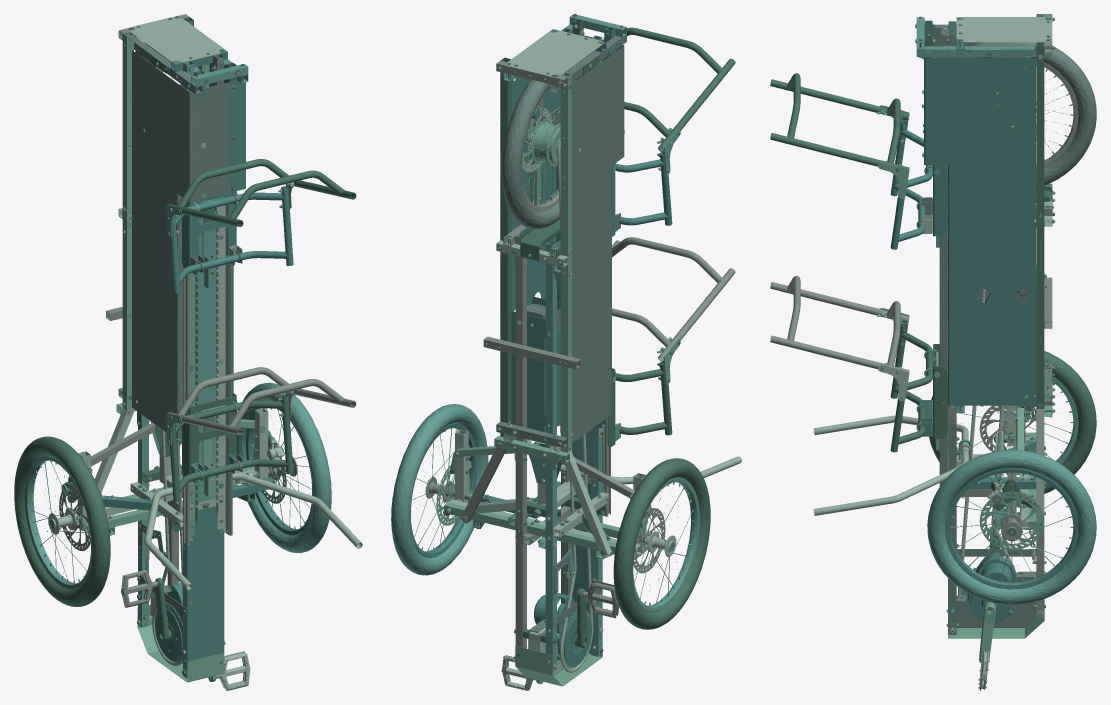
The model's file is vheliotech-motorise.glb.
3 renders of one model, left to right at view 1: azimuth 30°, elevation 25°; view 2: azimuth 150°, elevation 25°; view 3: azimuth 270°, elevation 25°, orthographic. The views are drawn at different scales.
Visible parts, largest first — view 1: groupe-6, groupe-2, groupe-0, groupe-5, groupe-1, groupe-3, groupe-4; view 2: groupe-6, groupe-2, groupe-1, groupe-4, groupe-0, groupe-3, groupe-5; view 3: groupe-0, groupe-2, groupe-1, groupe-6, groupe-5, groupe-4, groupe-3.
Boxes of the visible parts, box(x1,y1,x2,y2) form: groupe-6: box(35, 16, 311, 664); groupe-2: box(14, 17, 356, 674); groupe-0: box(33, 17, 312, 674); groupe-5: box(35, 17, 362, 690); groupe-1: box(24, 22, 331, 678); groupe-3: box(32, 25, 296, 682); groupe-4: box(30, 14, 356, 626); groupe-6: box(412, 25, 694, 658); groupe-2: box(412, 14, 735, 659); groupe-1: box(391, 14, 699, 671); groupe-4: box(423, 23, 735, 670); groupe-0: box(410, 26, 692, 666); groupe-3: box(418, 22, 693, 686); groupe-5: box(414, 25, 741, 690); groupe-0: box(881, 17, 1078, 634); groupe-2: box(770, 18, 1096, 632); groupe-1: box(877, 17, 1096, 626); groupe-6: box(880, 16, 1096, 634); groupe-5: box(813, 17, 1073, 690); groupe-4: box(770, 14, 1078, 633); groupe-3: box(877, 14, 1072, 662).
Bounding box in the file's own units: 850 × 2193 × 1023.
